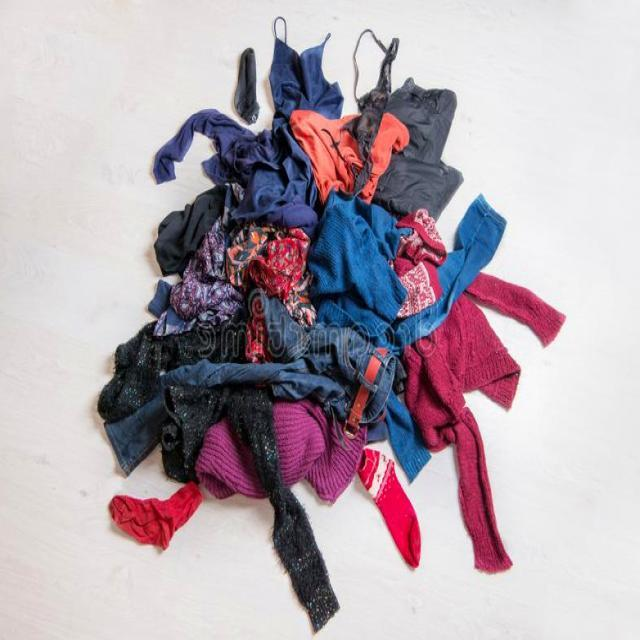clothes: (139, 62, 516, 562)
